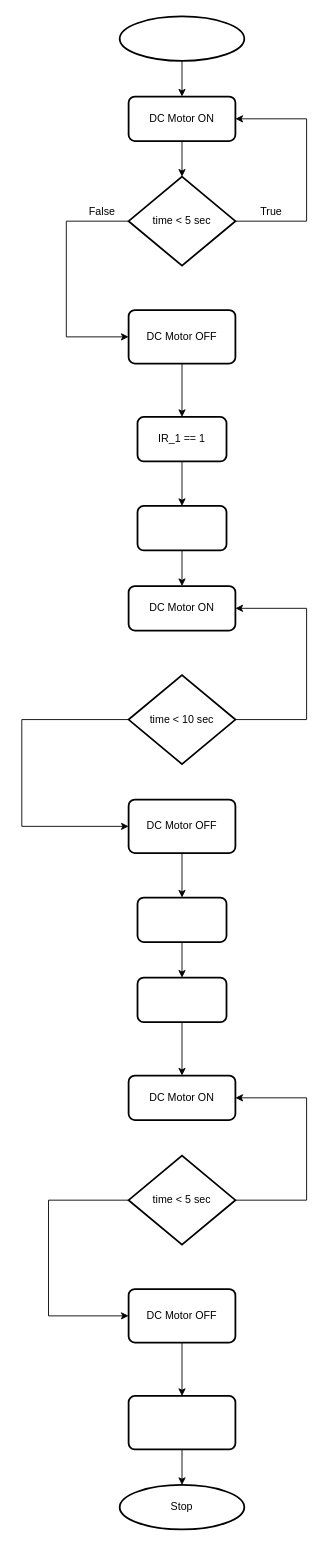
This 329x1545 diagram has some shape labels left out. The shapes that lost their labels are listed below. From the top down, each one's centre as x and y in pixels, then its label:
the point at 181,38: Start
the point at 181,528: Stepper Motor rotates 0 to 180
the point at 181,919: IR_2 == 1
the point at 181,999: Servo Motor rotates 0 to 90
the point at 181,1422: Beep for 1 second
